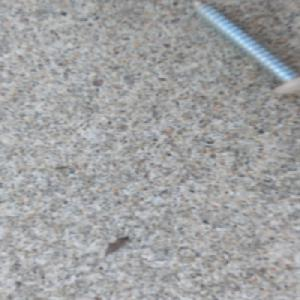Screw: (184, 0, 300, 98)
